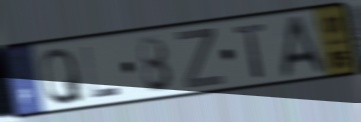8: (136, 34, 174, 94)
A: (280, 12, 328, 80)
L: (80, 44, 124, 101)
Q: (40, 45, 86, 108)
T: (233, 21, 268, 80)
Z: (174, 26, 227, 91)
